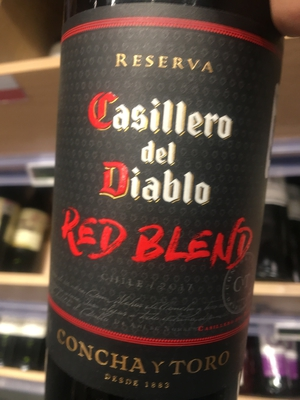casillero del diablo red blend: (48, 15, 284, 400)
